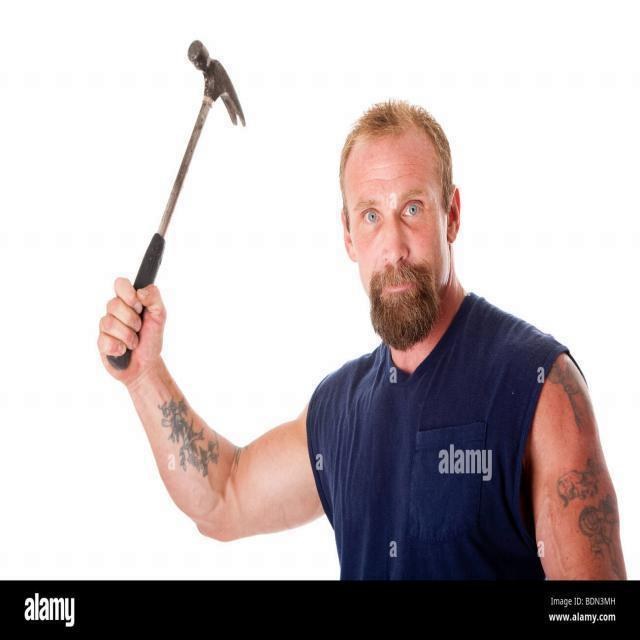hammer: (104, 39, 246, 369)
